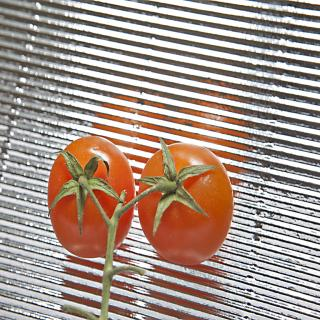tomato: (137, 137, 233, 266), (46, 136, 136, 257)
